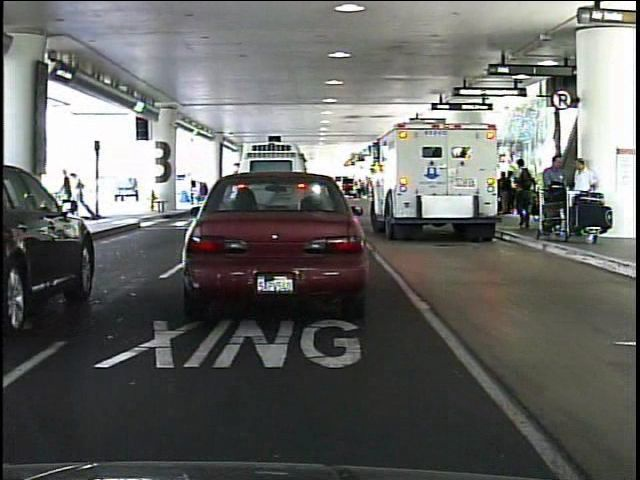person: (56, 168, 77, 225), (68, 167, 89, 221)
